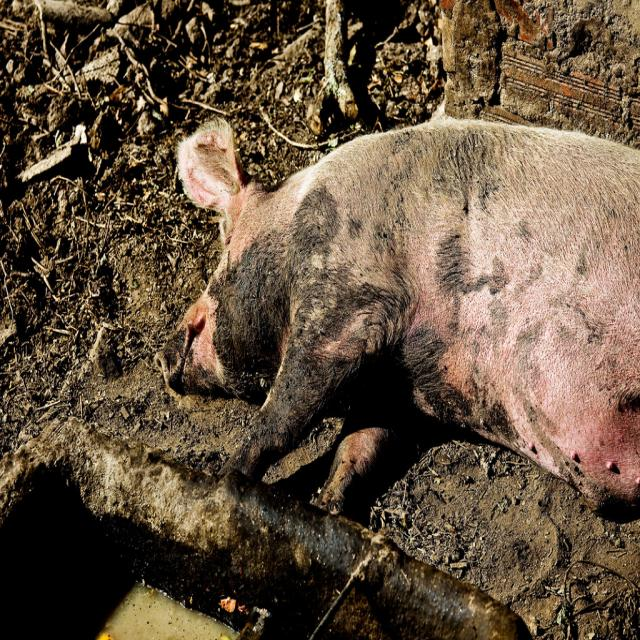Pig: (153, 117, 640, 518)
